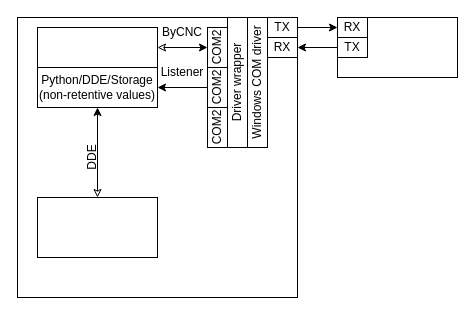
Some shapes in this 475 by 315 pixel diagram are drawn without their labels. The shapes that lost their labels are listed below. From the top down, each one's centre as x and y in pixels, then its label:
At point (97, 47): "MMC/PSM".
At point (97, 227): "Rsview32".
